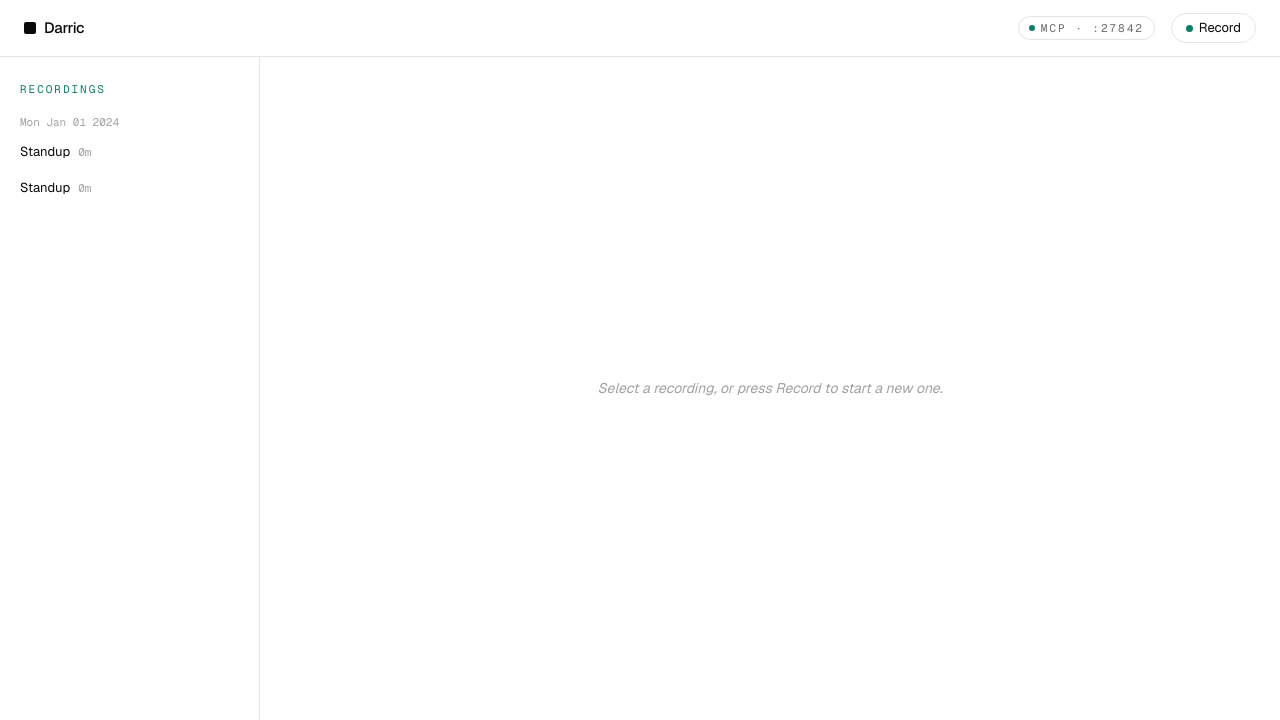
Scenario: App session-scoped UI state › does not carry a dropped-segment warning into the next recording
The image size is (1280, 720).
Step 1. Click the button "Record" → (1213, 28), box 1171,13 -> 1256,43
Wait 2100 ms
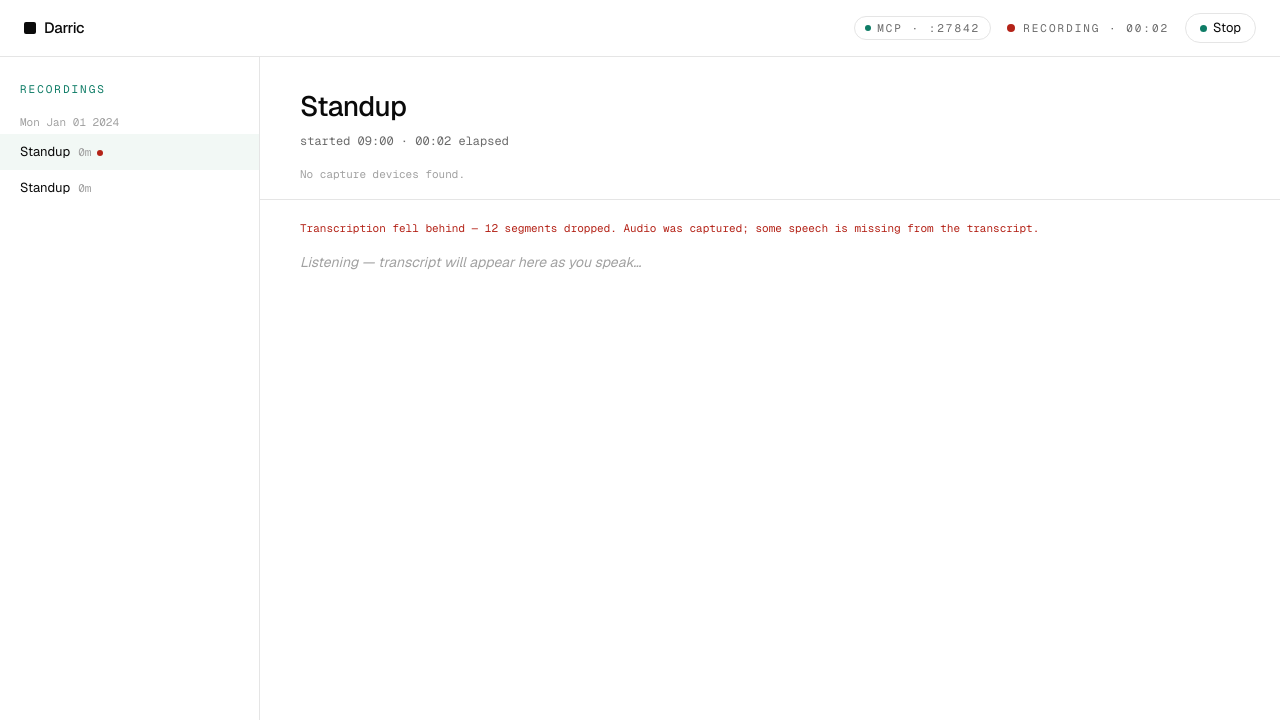
Now the text "Transcription fell behind" is shown, box 300,220 -> 485,234
Step 2. Click the button "Stop" → (1220, 28), box 1185,13 -> 1256,43
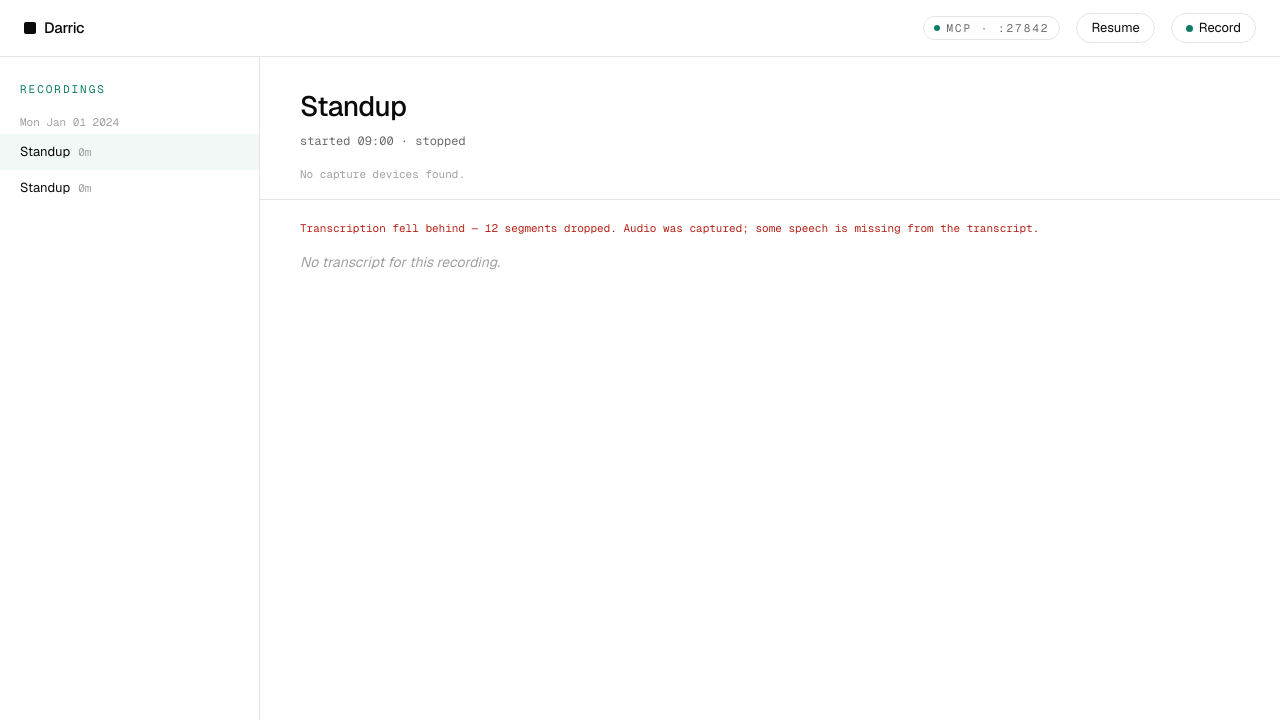
Now the text "Transcription fell behind" is shown, box 300,220 -> 485,234
Step 3. Click the button "Record" → (1213, 28), box 1171,13 -> 1256,43
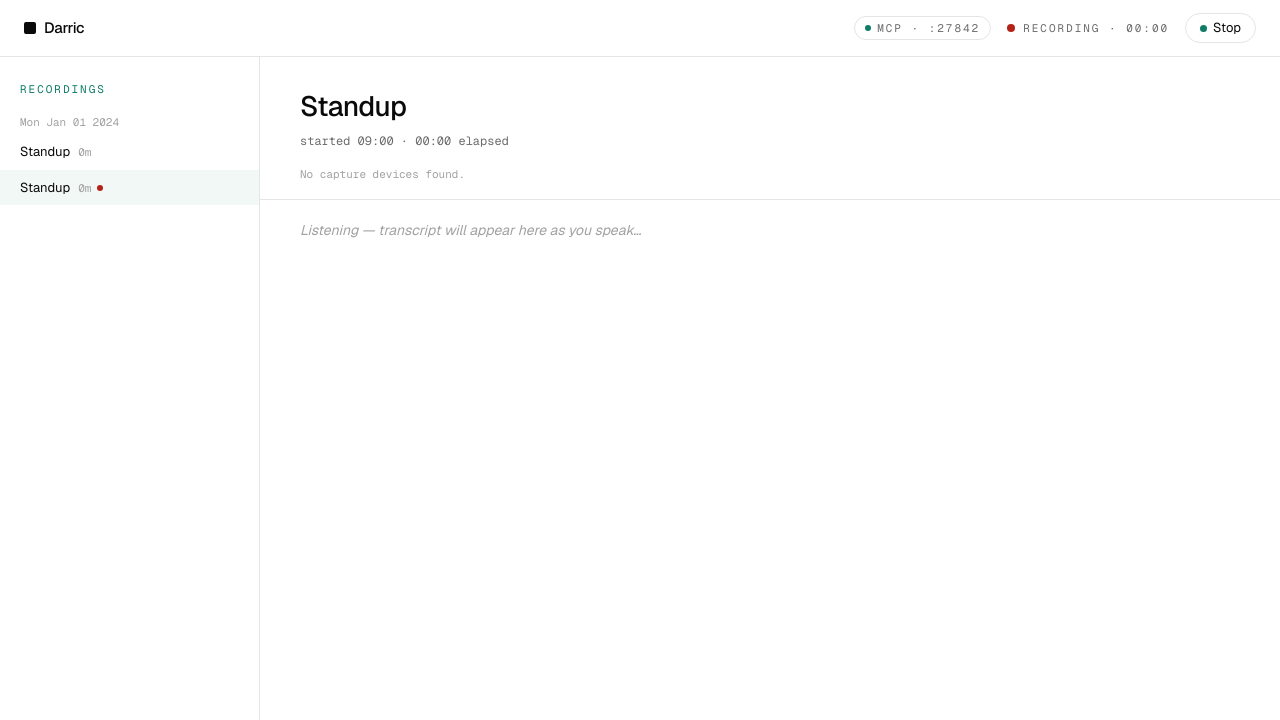
Now the text "Transcription fell behind" is gone
